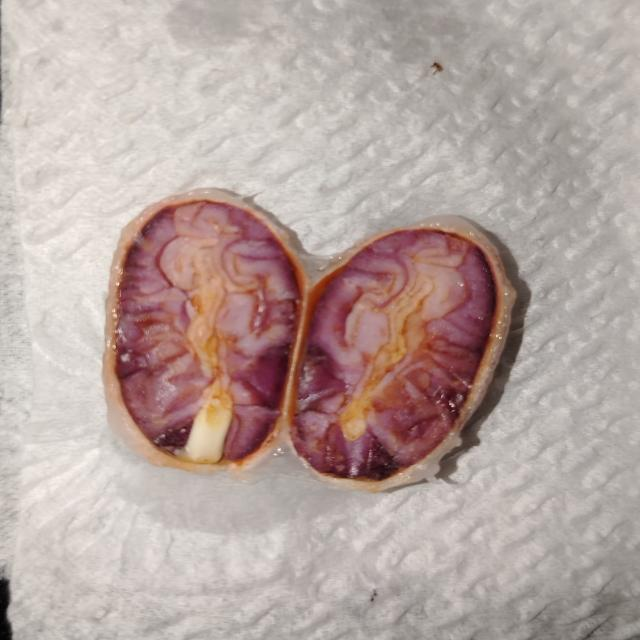Trinitario: (89, 192, 308, 475), (291, 230, 500, 479), (118, 197, 301, 469)
